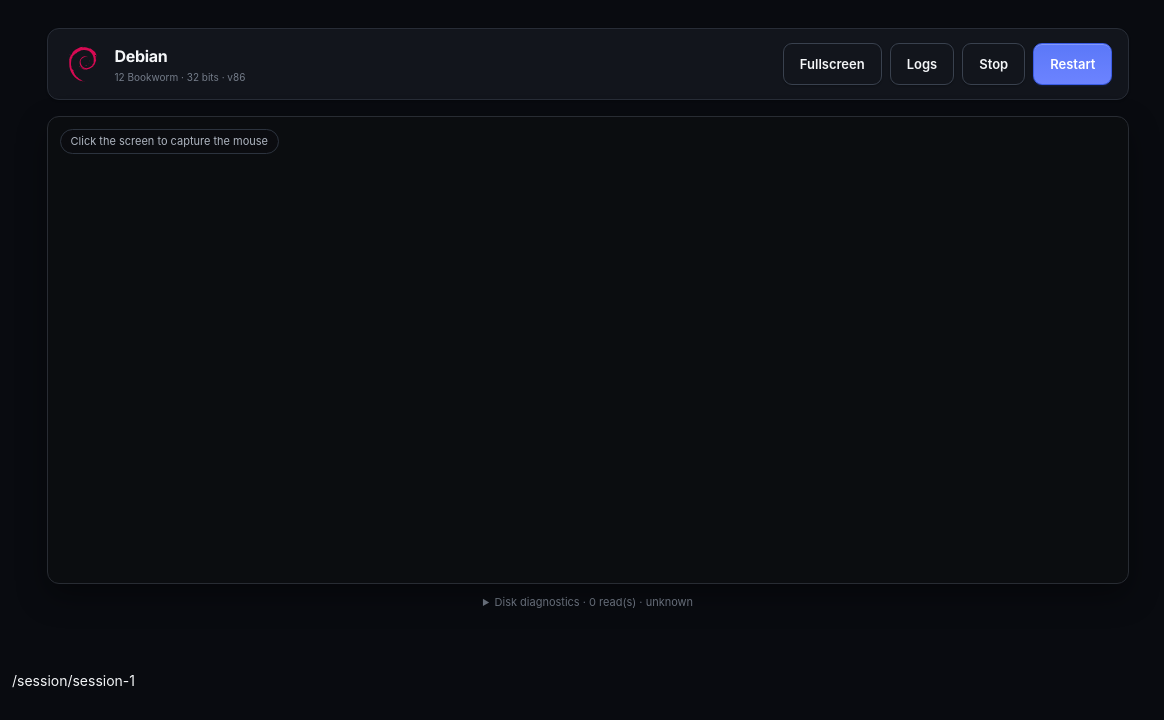
SessionPage — restart › creates a new session and navigates to it
Click the button "Restart": (1073, 64) [1033, 43, 1112, 85]
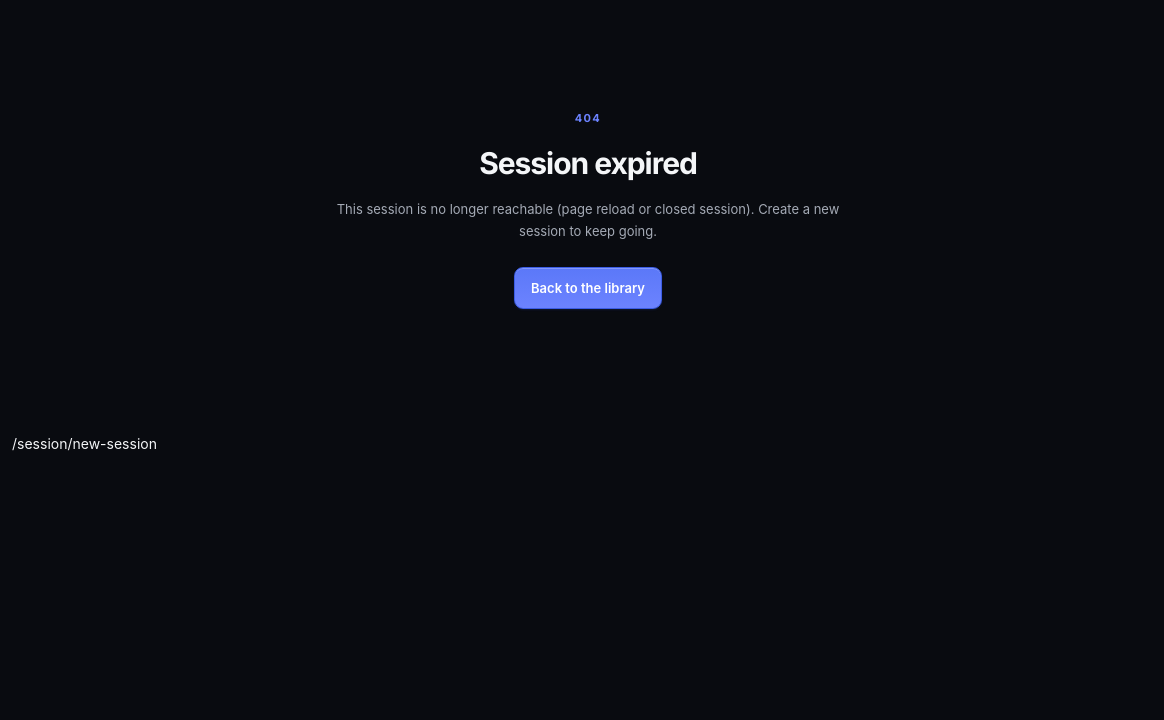
Expected: the text with test id "location" reads "/session/new-session", [12, 435, 157, 452]
